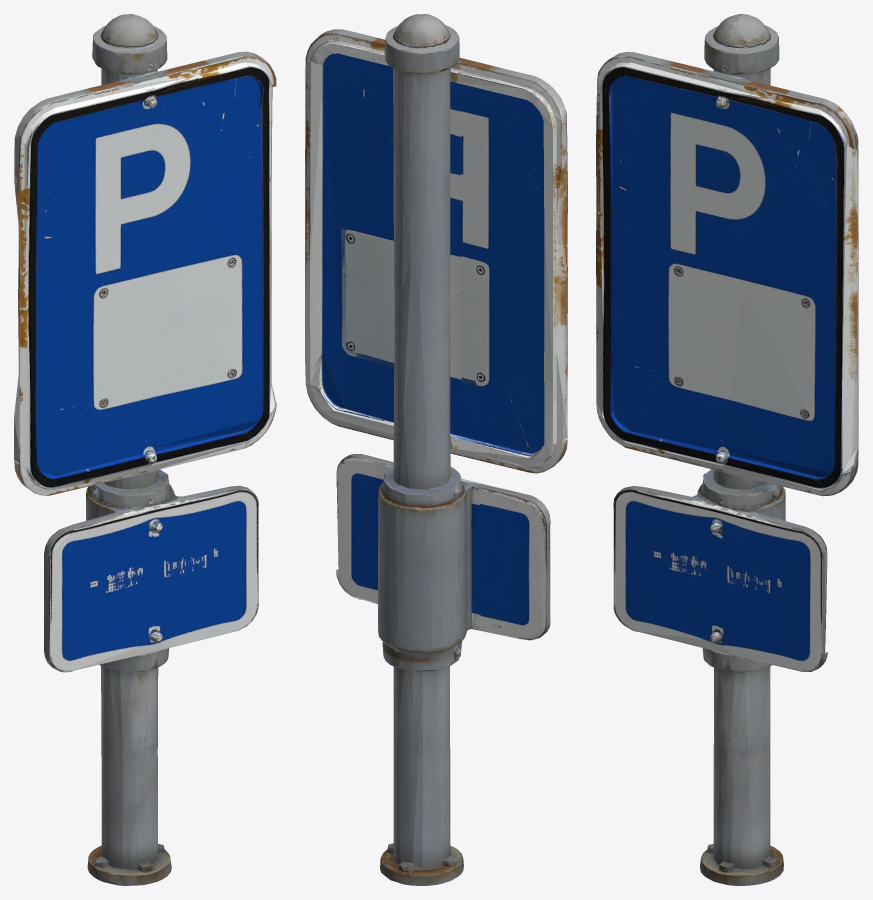
File: parking_sign.glb
3 views of the same model, side by side, from view 1: azimuth 30°, elevation 25°; view 2: azimuth 150°, elevation 25°; view 3: azimuth 330°, elevation 25° (orthographic).
Bounding box in the file's own units: 0.6033 × 1.9 × 0.2054.
Materials: 1 (1 with a texture image).
